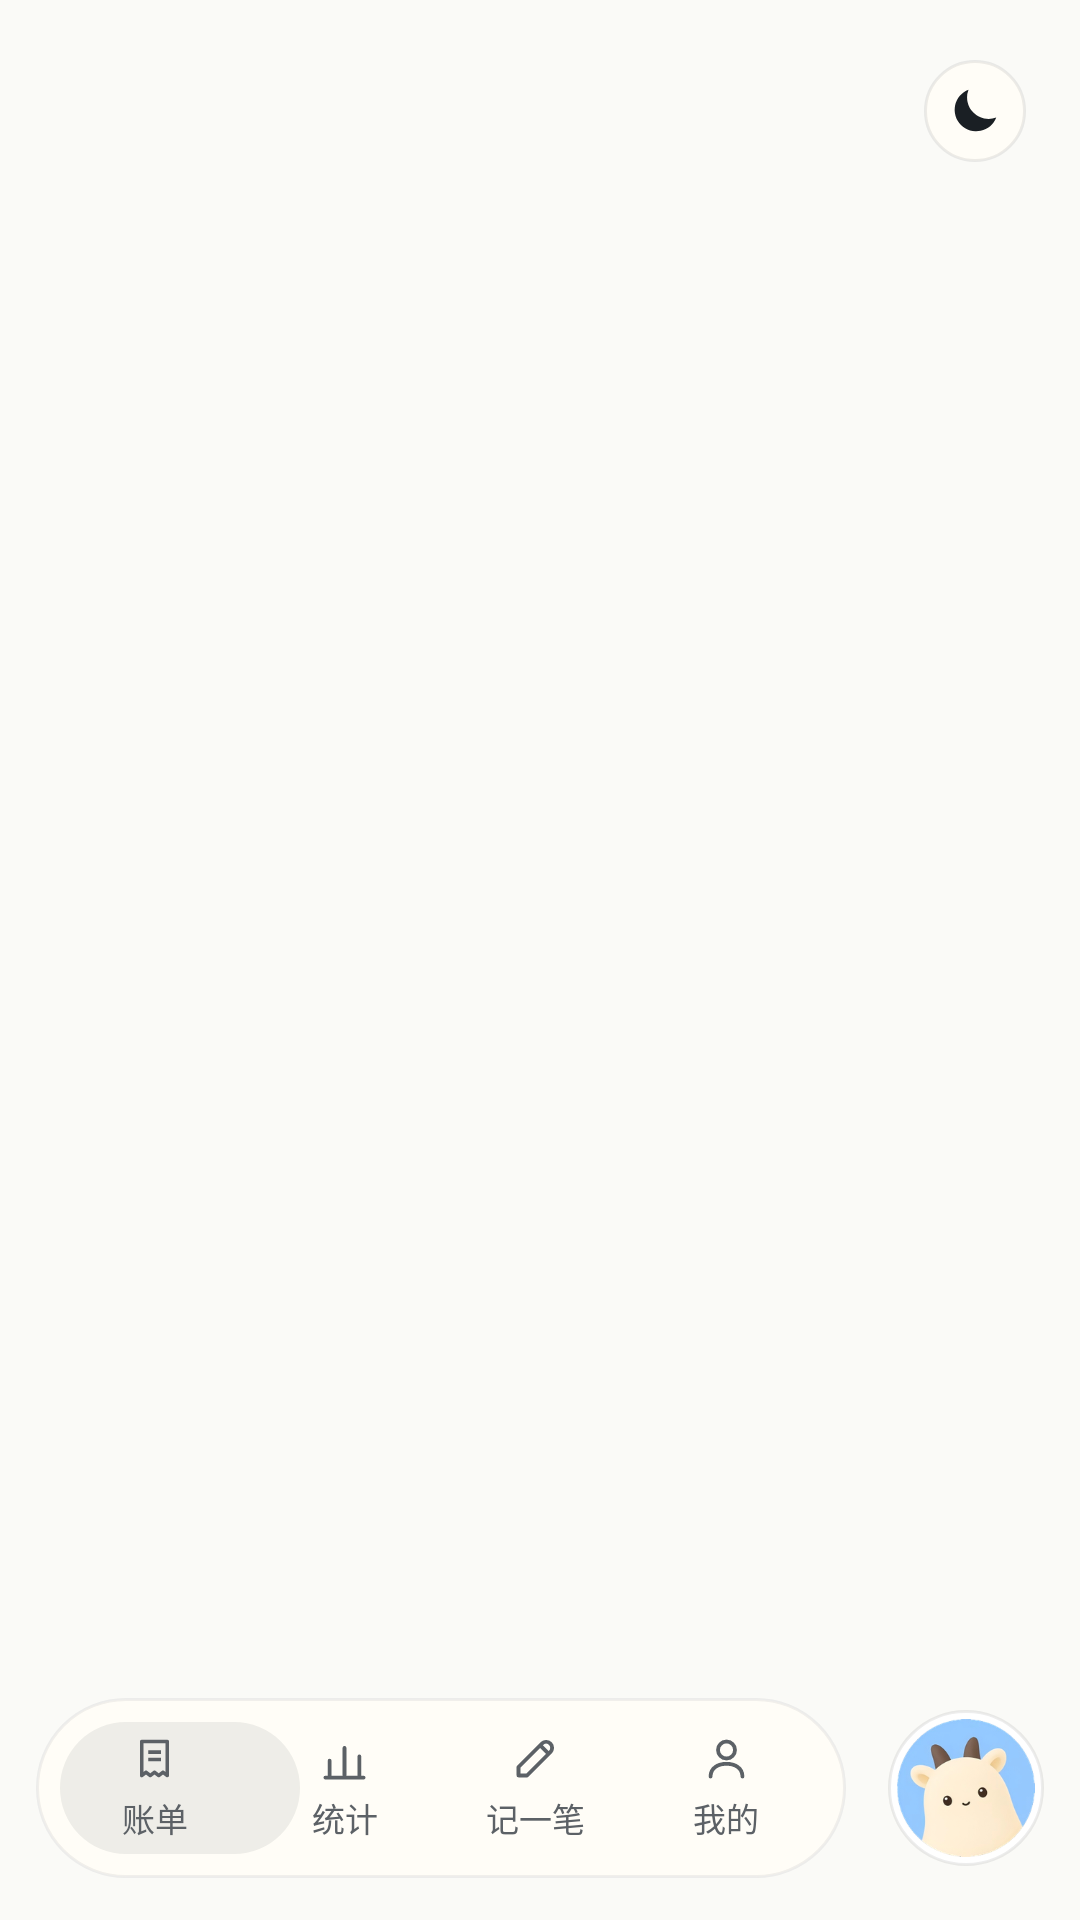

Screen size 1080 × 1920. Icon name, then its box in pixels as {"x1": x1, "y1": y1, "x2": x2, "y2": y2}:
切换深色模式: {"x1": 954, "y1": 90, "x2": 996, "y2": 132}
